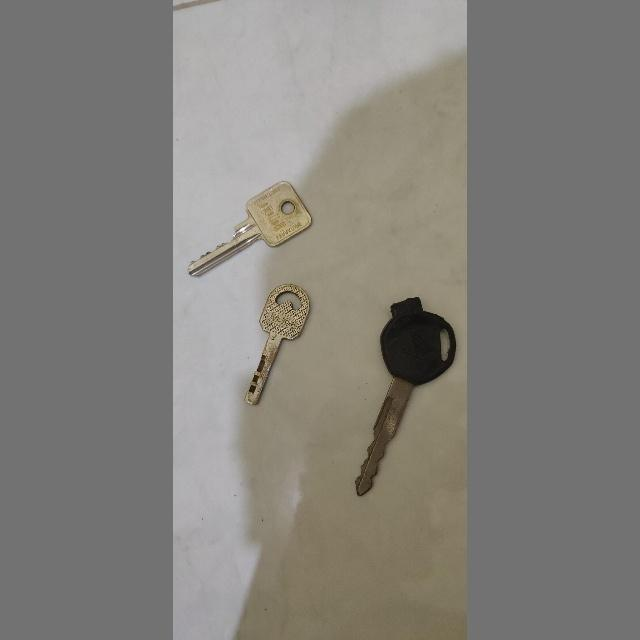Keys: (346, 292, 462, 503), (179, 170, 315, 286), (228, 274, 320, 410)
